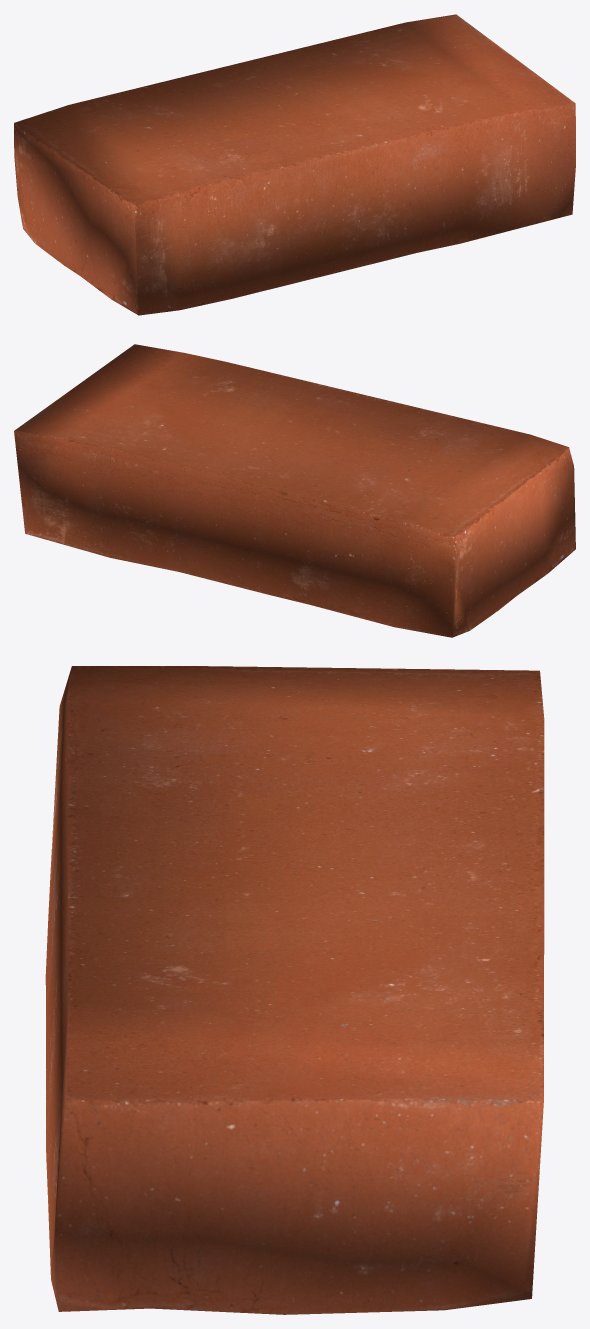
The model's file is red_brick_low.glb.
3 views of the same model, one above another, from view 1: azimuth 30°, elevation 25°; view 2: azimuth 150°, elevation 25°; view 3: azimuth 270°, elevation 25° (orthographic). The views are drawn at different scales.
Visible parts, largest first — view 1: tj1lea0jw_LOD0_TIER3_000; view 2: tj1lea0jw_LOD0_TIER3_000; view 3: tj1lea0jw_LOD0_TIER3_000.
Part boxes in pixels (box(x1,y1,x2,y2)): tj1lea0jw_LOD0_TIER3_000: box(14, 14, 575, 315); tj1lea0jw_LOD0_TIER3_000: box(14, 344, 575, 637); tj1lea0jw_LOD0_TIER3_000: box(45, 666, 544, 1314).
Bounding box in the file's own units: 0.2287 × 0.0572 × 0.1121.
1 material, 1 textured.
